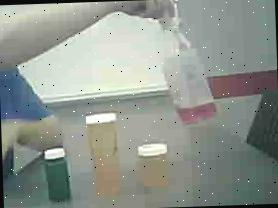Bottle A: (82, 109, 132, 201)
Bottle B: (136, 140, 176, 196)
Bottle C: (40, 146, 76, 204)
hazard: (149, 0, 237, 128)
